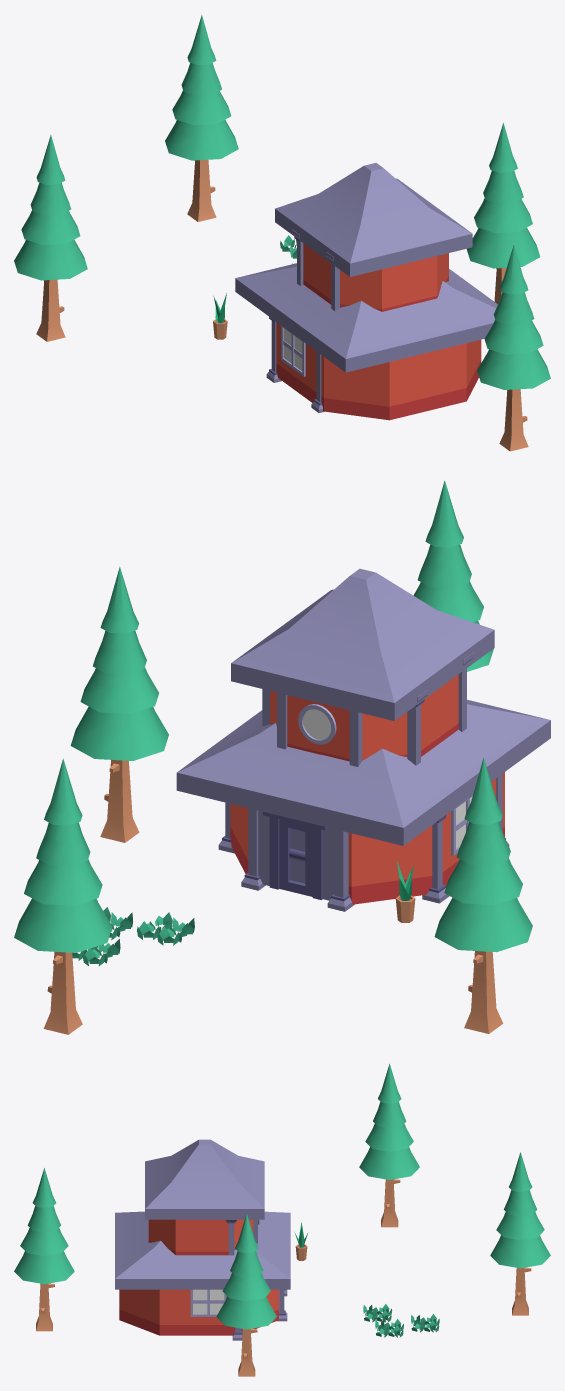
File: temple.glb
3 views of the same model, one above another, from view 1: azimuth 30°, elevation 25°; view 2: azimuth 150°, elevation 25°; view 3: azimuth 270°, elevation 25° (orthographic). The views are drawn at different scales.
Parts seen in each view (by area): view 1: mergedBlocks(Clone); view 2: mergedBlocks(Clone); view 3: mergedBlocks(Clone).
Part boxes in pixels (x1,y1,x2,y2): mergedBlocks(Clone): (14,15,550,451); mergedBlocks(Clone): (14,480,550,1034); mergedBlocks(Clone): (14,1064,550,1376).
Size of the model in its own units: 1.32 by 0.6346 by 1.8.
